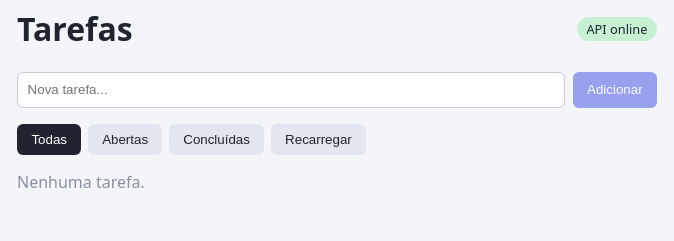
Test: App › creates a task through the form
Expected: the text "Nenhuma tarefa." is shown, [17,171,145,193]
Type "Nova" into the field named "Título da tarefa" at (291, 90), box [17,72,565,108]
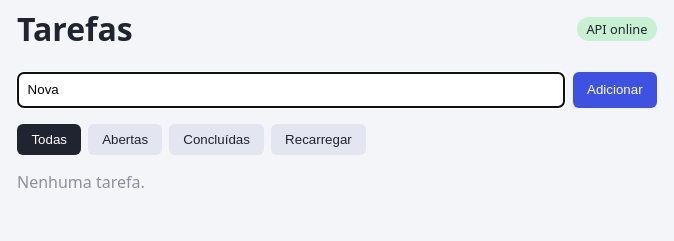
Click the button "Adicionar" at (615, 90), box [573,72,657,108]
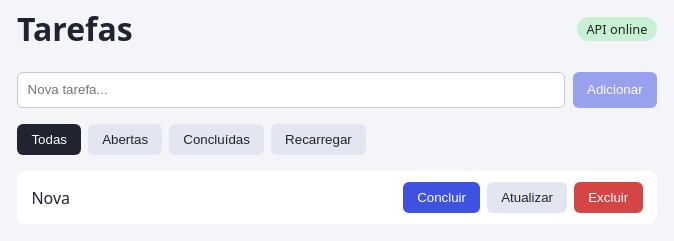
Result: the text "Nova" is shown at [31,187,70,209]
Result: the field named "Título da tarefa" is empty at [17,72,565,108]
